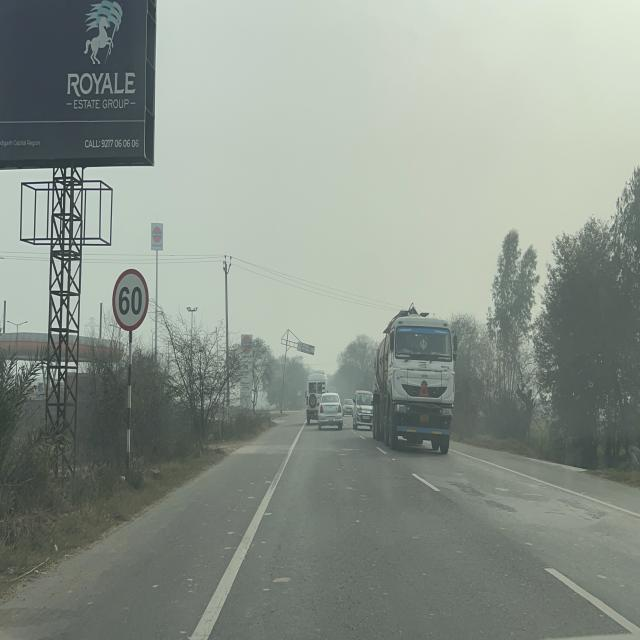SPEED_LIMIT_60: (111, 267, 150, 331)
